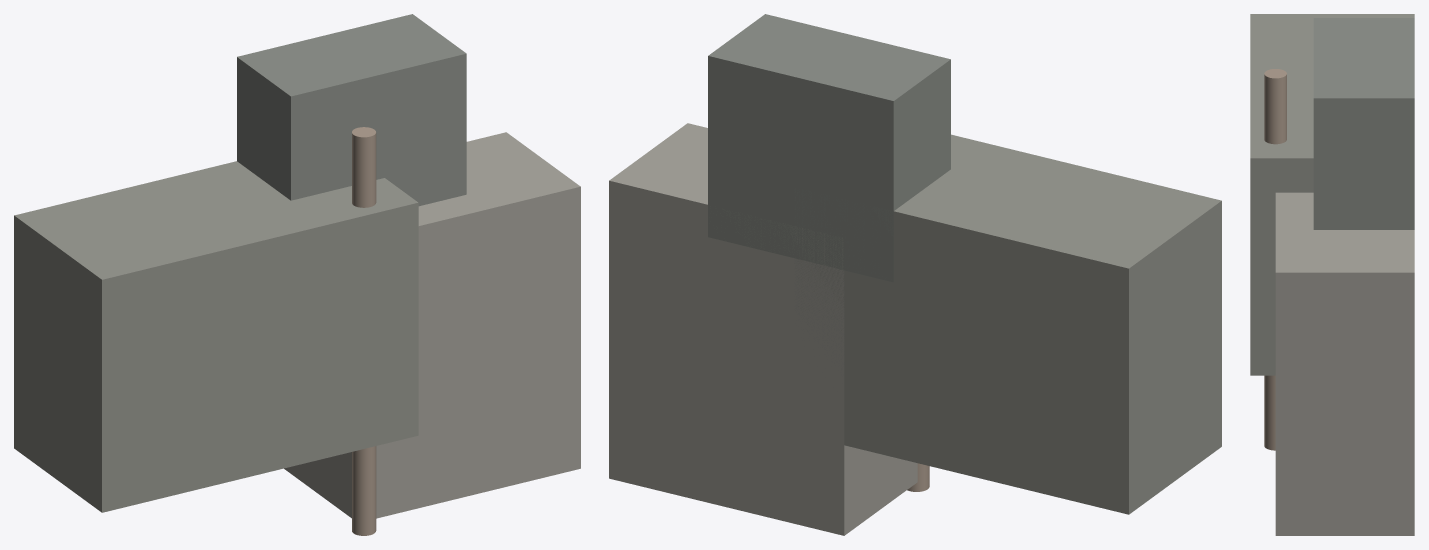
Rendered from rubble_cluster.glb.
3 views of the same model, side by side, from view 1: azimuth 30°, elevation 25°; view 2: azimuth 150°, elevation 25°; view 3: azimuth 270°, elevation 25° (orthographic). The views are drawn at different scales.
Visible parts, largest first — view 1: slab_a, slab_b, slab_c, rebar; view 2: slab_a, slab_b, slab_c; view 3: slab_b, slab_c, slab_a, rebar.
Boxes of the visible parts, x1,y1,x2,y2 form: slab_a: (14,161,418,512); slab_b: (284,132,580,518); slab_c: (237,14,466,206); rebar: (352,127,376,535); slab_a: (794,134,1221,514); slab_b: (609,123,917,535); slab_c: (708,14,950,282); slab_b: (1275,192,1414,535); slab_c: (1313,18,1414,229); slab_a: (1250,14,1414,375); rebar: (1264,69,1286,450).
Bounding box in the file's own units: 0.84 × 0.705 × 0.26.
